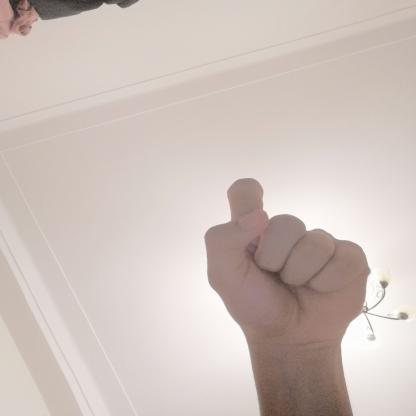FAA: (190, 167, 382, 360)
